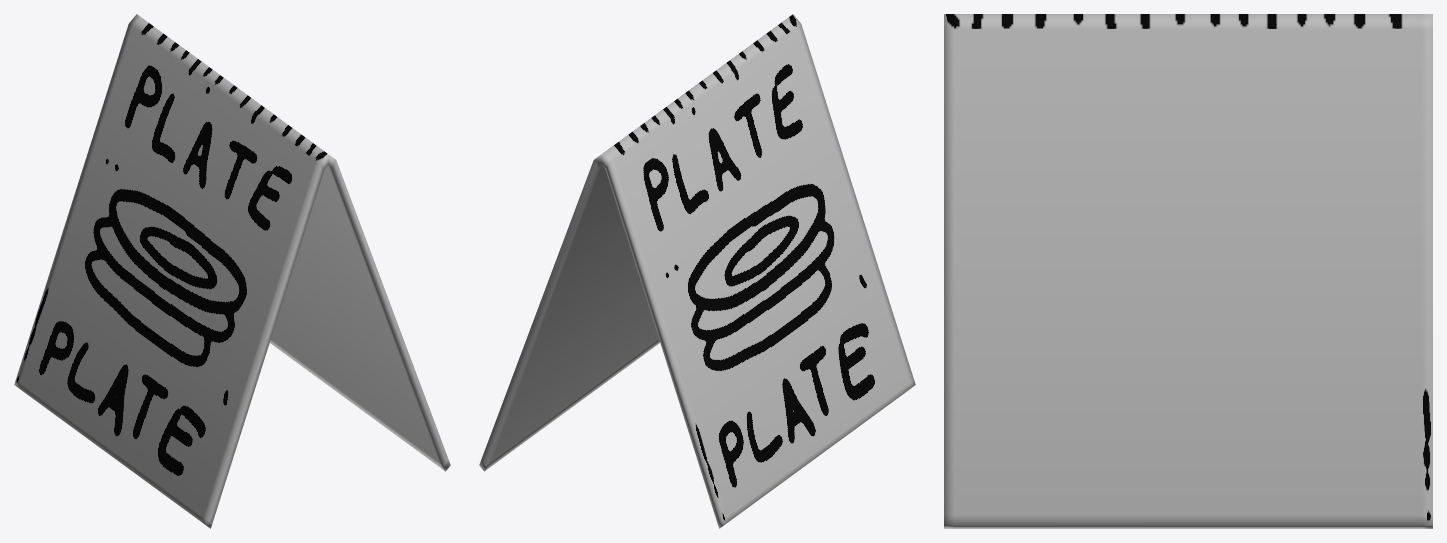
The model's file is ShelfMarkerPlate.fbx.
The picture shows the model from 3 angles, left to right: view 1: azimuth 30°, elevation 25°; view 2: azimuth 150°, elevation 25°; view 3: azimuth 270°, elevation 25°; orthographic projection. The views are drawn at different scales.
Visible parts, largest first — view 1: MarkerPlate; view 2: MarkerPlate; view 3: MarkerPlate.
Part boxes in pixels (bbox=[...]): MarkerPlate: bbox=[14, 14, 450, 528]; MarkerPlate: bbox=[479, 14, 915, 528]; MarkerPlate: bbox=[944, 14, 1432, 528].
Size of the model in its own units: 25.88 by 34.93 by 35.03.
